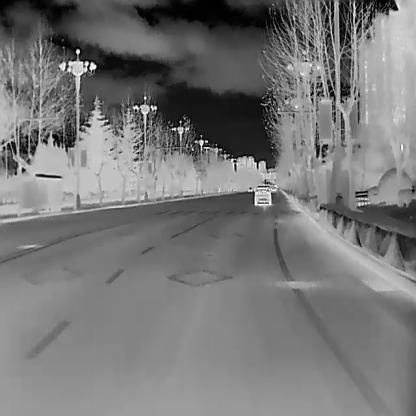car: (254, 185, 271, 207), (247, 186, 252, 192)
crosswalk: (144, 204, 311, 227)
